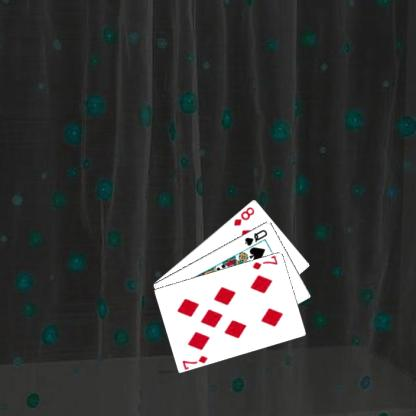7D: (250, 254, 279, 271), (180, 353, 209, 369)
8D: (231, 204, 255, 227)
QS: (242, 227, 268, 247)
